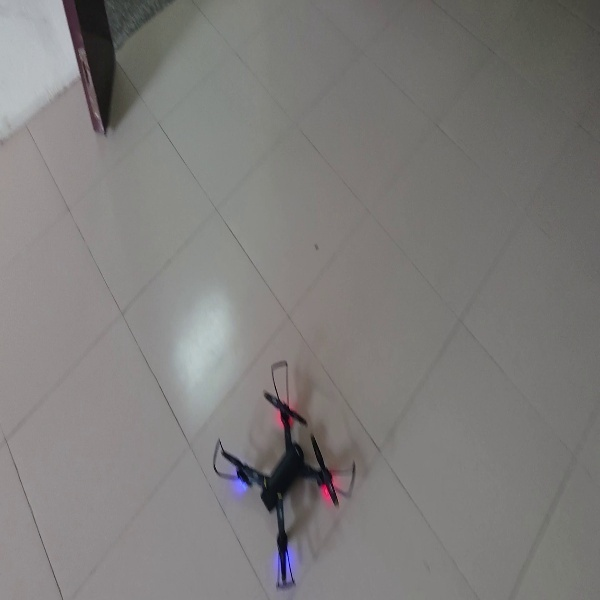drone: (210, 353, 362, 591)
